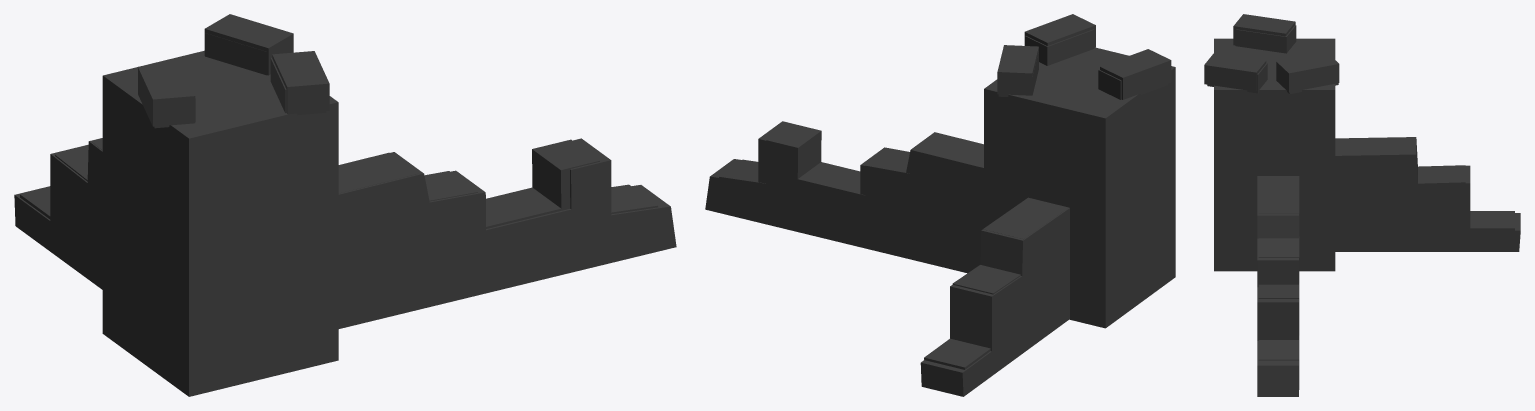
Rendered from foundationruin_01.glb.
The picture shows the model from 3 angles, left to right: view 1: azimuth 30°, elevation 25°; view 2: azimuth 150°, elevation 25°; view 3: azimuth 270°, elevation 25°; orthographic projection. The views are drawn at different scales.
Visible parts, largest first — view 1: geometry_0; view 2: geometry_0; view 3: geometry_0.
Boxes of the visible parts, x1,y1,x2,y2 form: geometry_0: [14, 14, 676, 396]; geometry_0: [705, 14, 1175, 396]; geometry_0: [1204, 14, 1520, 396].
Size of the model in its own units: 7.54 by 3.86 by 5.52.
1 material, 1 textured.
